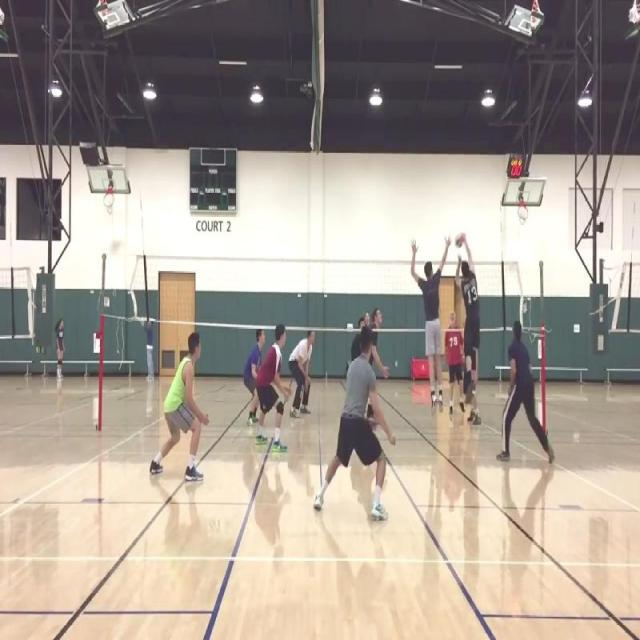volleyball: (454, 233, 462, 247)
